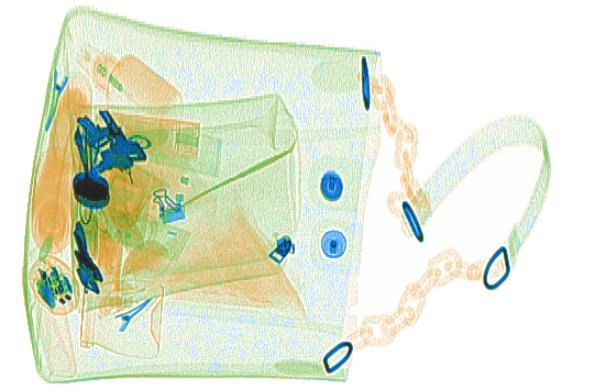plasticBottleWithaNozzle: (75, 39, 182, 146)
